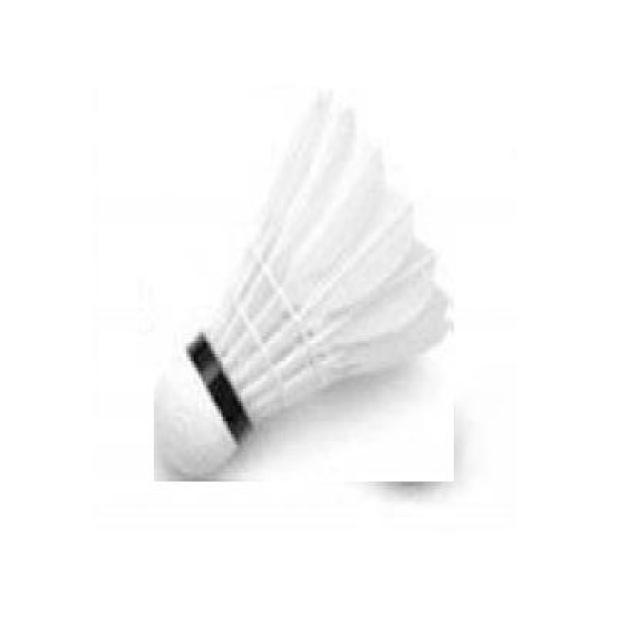Shuttlecock: (153, 88, 449, 477)
